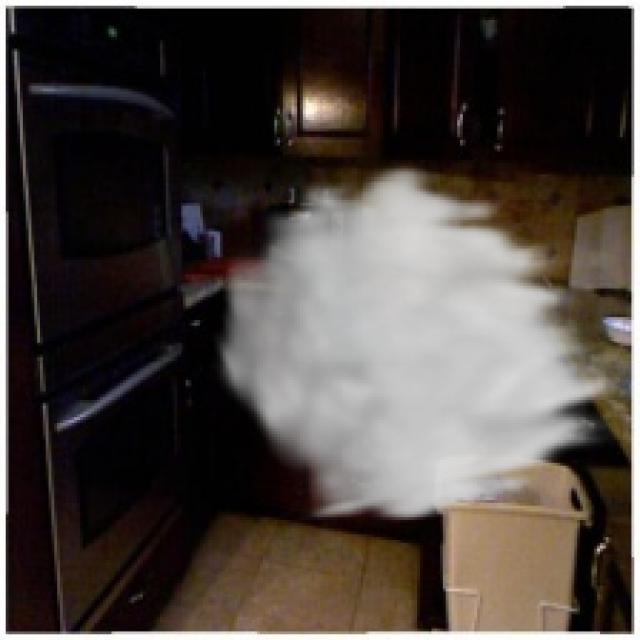Smoke: (208, 160, 634, 526)
